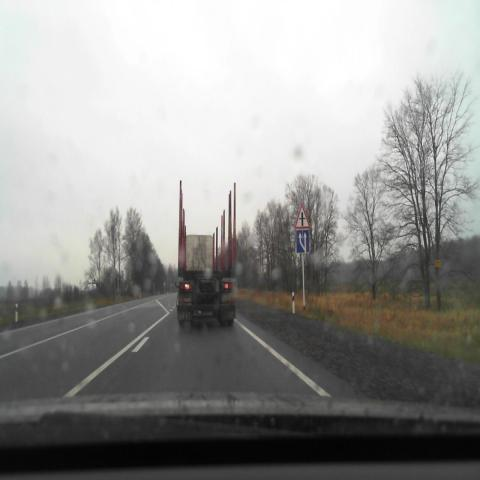2_3: (294, 204, 311, 230)
